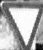Give way: (0, 1, 41, 45)
